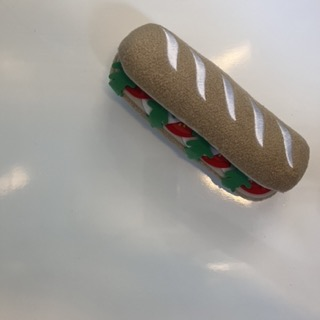sandwich: (106, 22, 311, 202)
